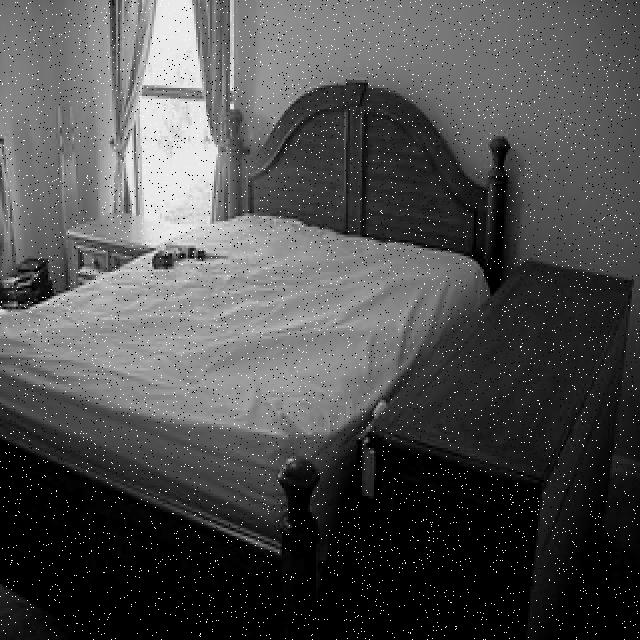bed: (0, 64, 522, 563)
